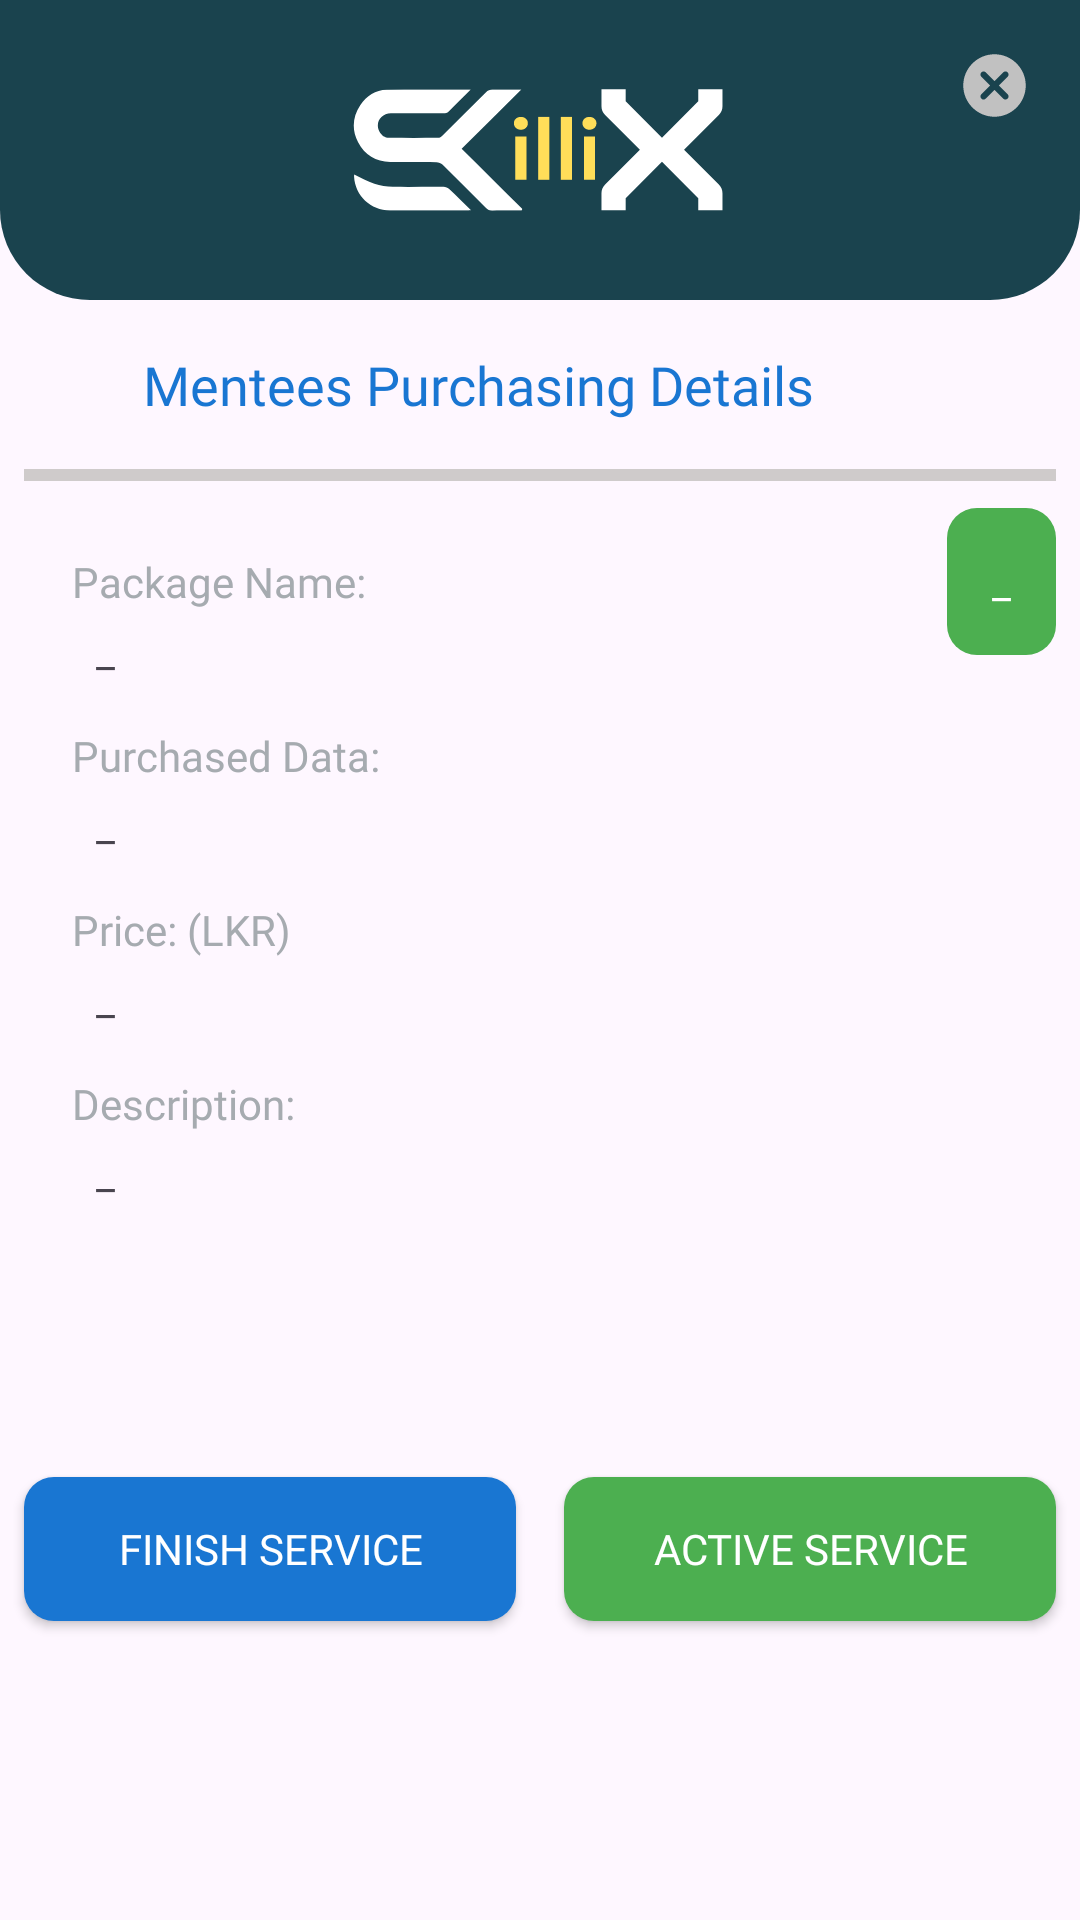

Screen size 1080*1920. Icon name, then its box in pixels as (x1, y1, x2, y2):
close: (963, 54, 1026, 117)
